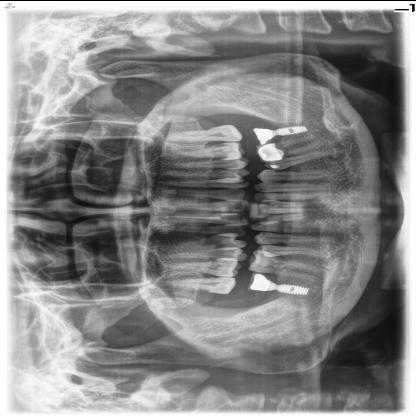Bicon: (271, 118, 320, 142), (270, 276, 312, 300)
